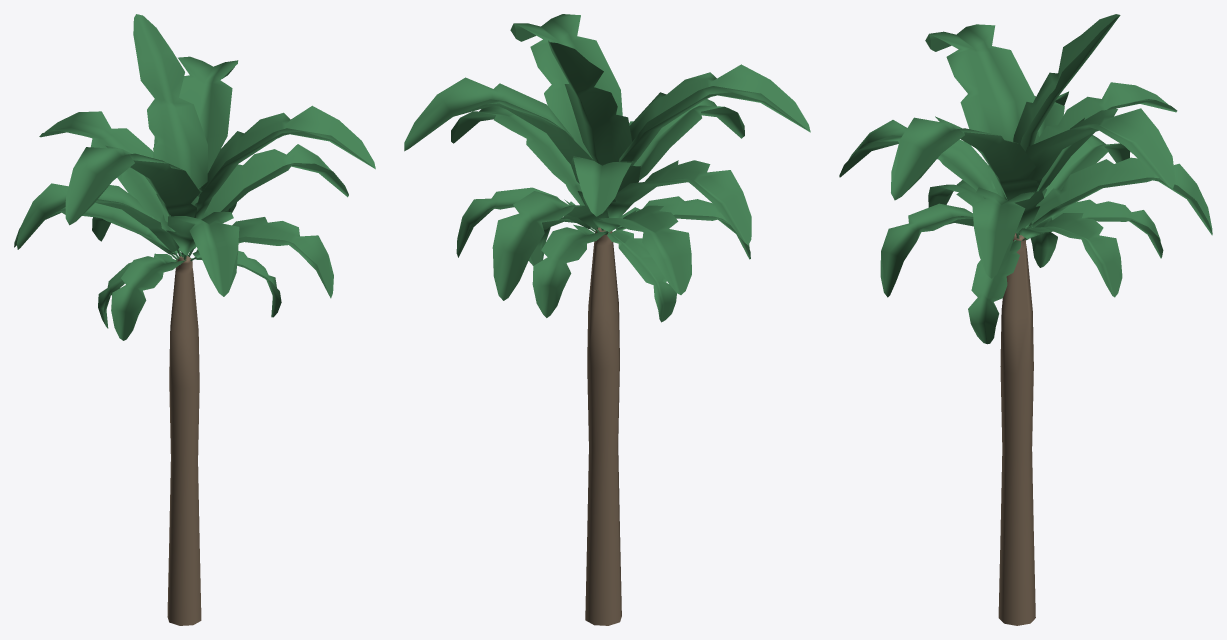
The model's file is PalmTree01.fbx.
The picture shows the model from 3 angles, left to right: view 1: azimuth 30°, elevation 25°; view 2: azimuth 150°, elevation 25°; view 3: azimuth 270°, elevation 25°; orthographic projection. The views are drawn at different scales.
Visible parts, largest first — view 1: PalmTree01; view 2: PalmTree01; view 3: PalmTree01.
Boxes of the visible parts, bbox=[...] form: PalmTree01: bbox=[14, 14, 375, 625]; PalmTree01: bbox=[404, 14, 810, 625]; PalmTree01: bbox=[839, 14, 1212, 625].
Size of the model in its own units: 2.23 by 3.98 by 2.23.
